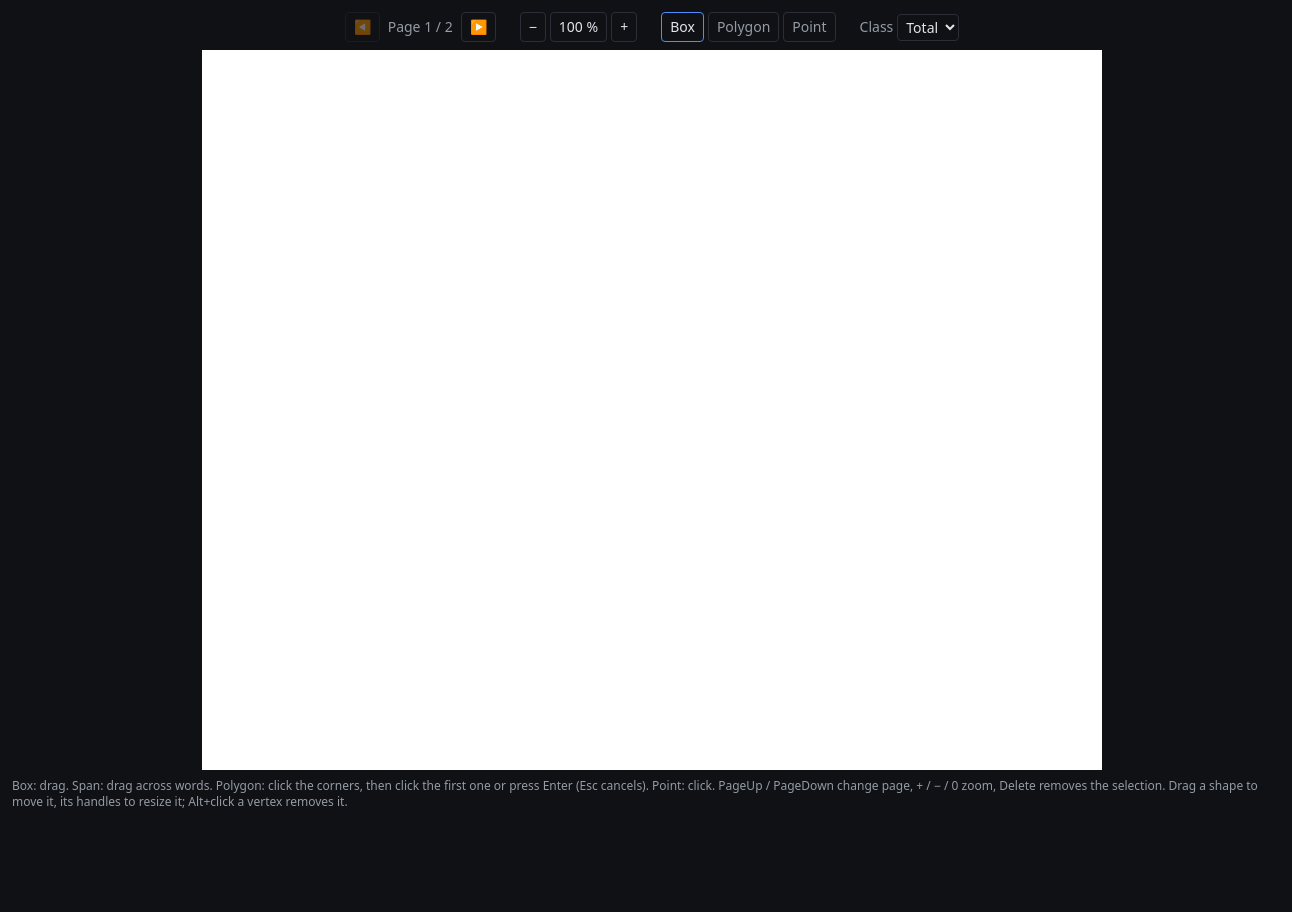
Test: PdfAnnotator › OCR on a scanned page › shows a failure and lets the person try again
This screenshot has width=1292, height=912.
Expected: the icon with test id "pdf-overlay" is shown, x1=202 y1=50 x2=1102 y2=770
Click the button named "Next page" at (478, 27), box x1=461 y1=12 x2=496 y2=42
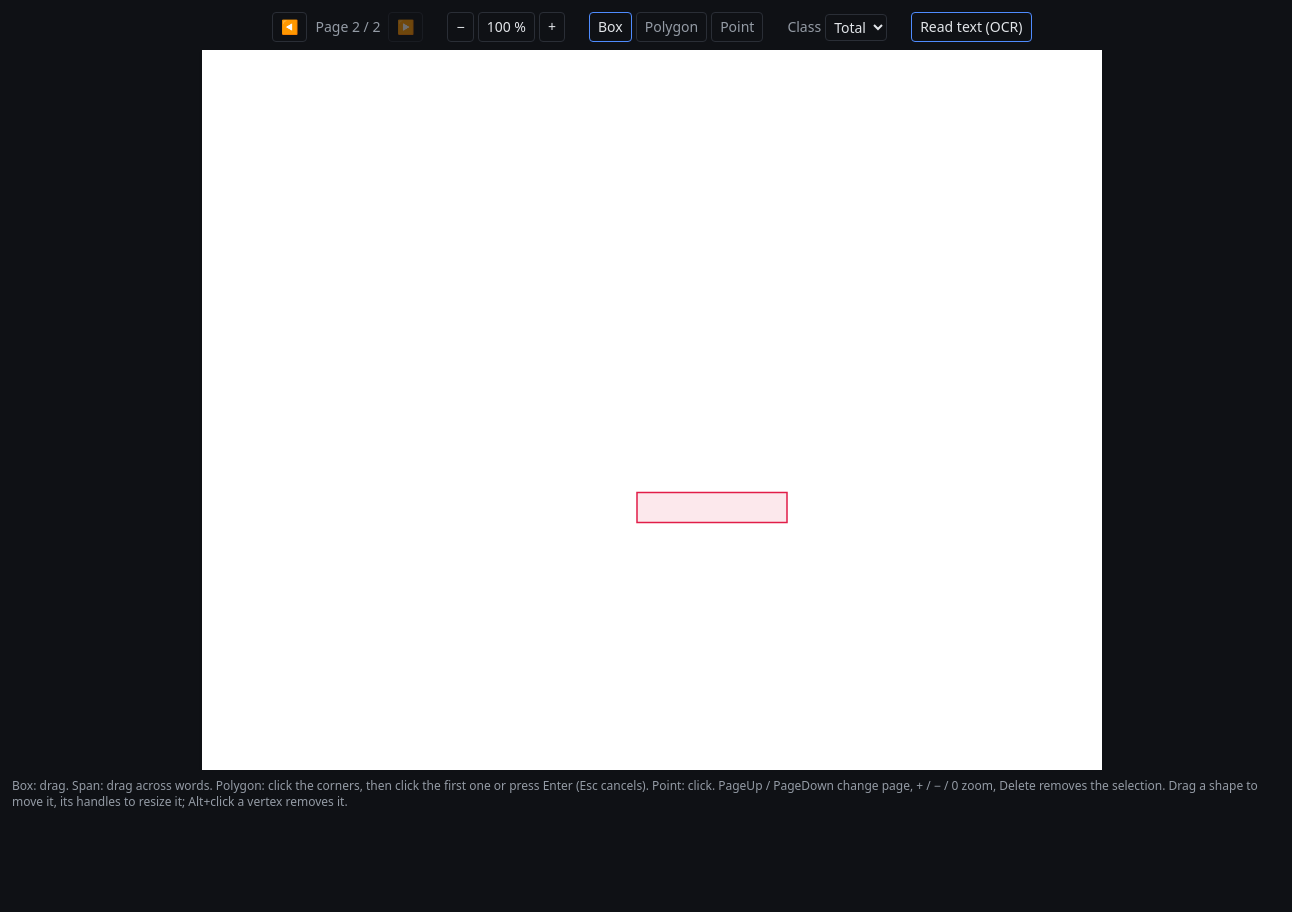
Expected: the text "Page 2 / 2" is shown, x1=316 y1=17 x2=380 y2=37
Click the button "Read text (OCR)" at (971, 27), box x1=911 y1=12 x2=1032 y2=42
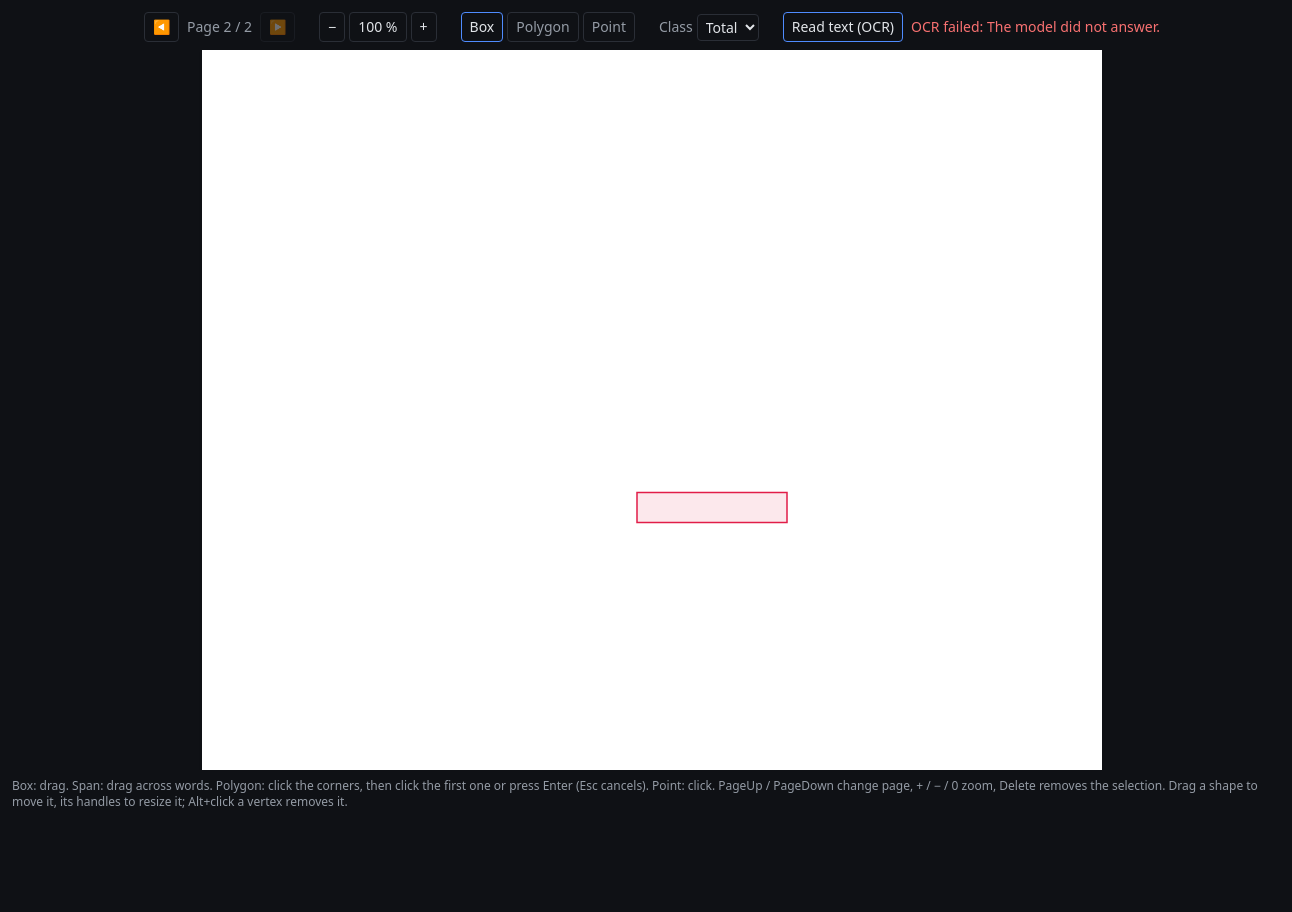
Expected: the message reads "OCR failed: The model did not answer.", x1=911 y1=17 x2=1160 y2=36
Click the button "Read text (OCR)" at (843, 27), box x1=783 y1=12 x2=903 y2=42
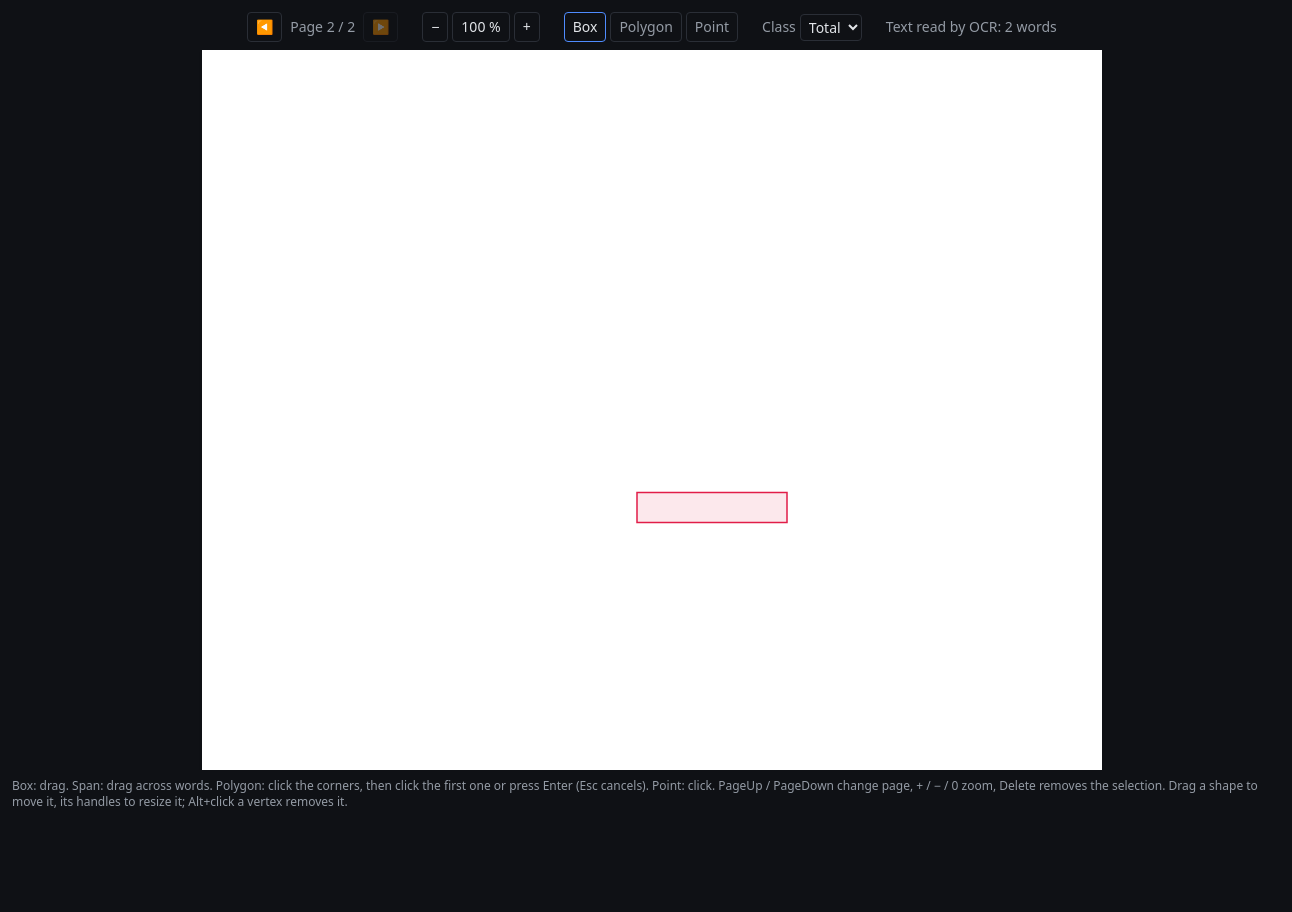
Expected: the text "Text read by OCR: 2 words" is shown, x1=886 y1=17 x2=1057 y2=37
Expected: the message "OCR failed: The model did not answer." is gone
